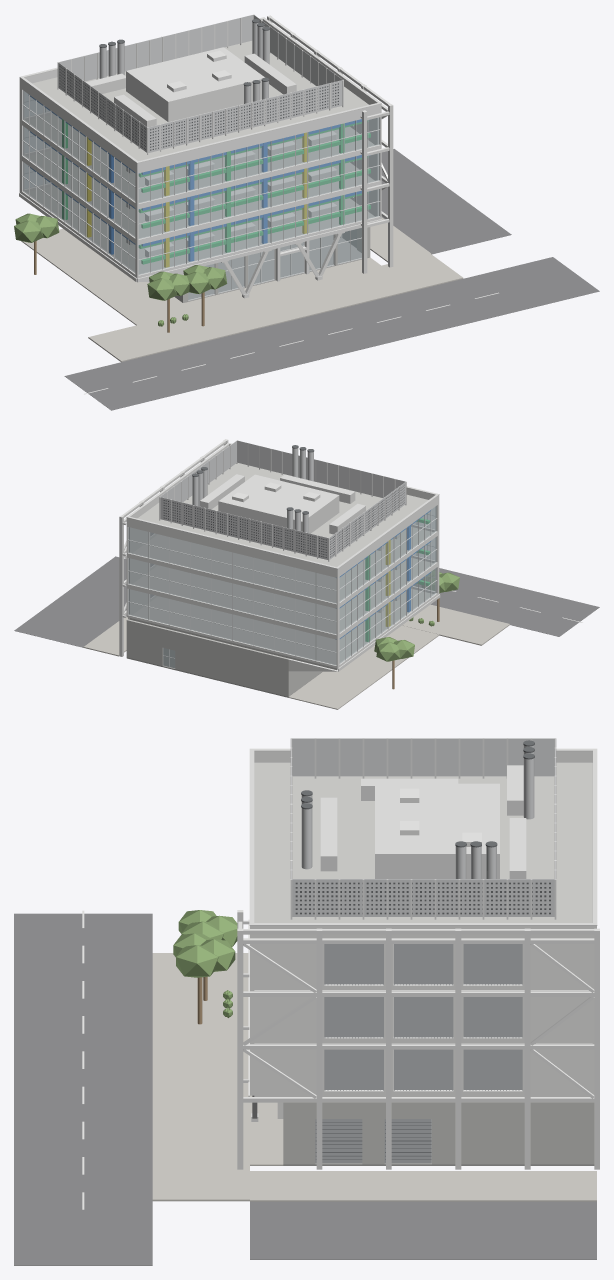
The model's file is clay-exoskeleton-research-lab-clay-v002.glb.
The picture shows the model from 3 angles, top to bottom: view 1: azimuth 30°, elevation 25°; view 2: azimuth 150°, elevation 25°; view 3: azimuth 270°, elevation 25°; orthographic projection. The views are drawn at different scales.
Parts seen in each view (by area): view 1: CLAY_GLASS, CLAY_ASPHALT, CLAY_SAND, CLAY_WHITE, CLAY_FLOOR, CLAY_PERF, CLAY_PALE, CLAY_TRIM, CLAY_STEEL, CLAY_GREEN, CLAY_MEMBRANE, CLAY_BLUE (+7 smaller); view 2: CLAY_GLASS, CLAY_FLOOR, CLAY_WHITE, CLAY_ASPHALT, CLAY_PERF, CLAY_PALE, CLAY_SAND, CLAY_CONCRETE, CLAY_MEMBRANE, CLAY_TRIM, CLAY_STEEL, CLAY_HARDWARE (+5 smaller); view 3: CLAY_ASPHALT, CLAY_SAND, CLAY_WHITE, CLAY_LOUVRE, CLAY_STEEL, CLAY_MEMBRANE, CLAY_PERF, CLAY_PALE, CLAY_CONCRETE, CLAY_HARDWARE, CLAY_PLANTING, CLAY_FLUE (+1 smaller).
Boxes of the visible parts, x1=… form: CLAY_GLASS: x1=23, y1=90, x2=379, y2=299; CLAY_ASPHALT: x1=64, y1=149, x2=599, y2=410; CLAY_SAND: x1=21, y1=217, x2=463, y2=362; CLAY_WHITE: x1=19, y1=19, x2=498, y2=394; CLAY_FLOOR: x1=27, y1=114, x2=374, y2=273; CLAY_PERF: x1=58, y1=15, x2=342, y2=152; CLAY_PALE: x1=19, y1=17, x2=381, y2=248; CLAY_TRIM: x1=22, y1=95, x2=380, y2=300; CLAY_STEEL: x1=57, y1=14, x2=393, y2=298; CLAY_GREEN: x1=62, y1=119, x2=370, y2=264; CLAY_MEMBRANE: x1=32, y1=41, x2=368, y2=160; CLAY_BLUE: x1=28, y1=95, x2=361, y2=261; CLAY_GLASS: x1=128, y1=506, x2=436, y2=668; CLAY_FLOOR: x1=130, y1=527, x2=433, y2=669; CLAY_WHITE: x1=126, y1=445, x2=582, y2=671; CLAY_ASPHALT: x1=14, y1=556, x2=599, y2=647; CLAY_PERF: x1=160, y1=440, x2=405, y2=559; CLAY_PALE: x1=126, y1=442, x2=439, y2=569; CLAY_SAND: x1=83, y1=604, x2=509, y2=709; CLAY_CONCRETE: x1=126, y1=619, x2=322, y2=696; CLAY_MEMBRANE: x1=137, y1=463, x2=428, y2=566; CLAY_TRIM: x1=128, y1=510, x2=437, y2=668; CLAY_STEEL: x1=119, y1=439, x2=406, y2=656; CLAY_HARDWARE: x1=163, y1=445, x2=404, y2=557; CLAY_ASPHALT: x1=14, y1=913, x2=596, y2=1265; CLAY_SAND: x1=152, y1=953, x2=596, y2=1201; CLAY_WHITE: x1=82, y1=751, x2=596, y2=1209; CLAY_LOUVRE: x1=315, y1=944, x2=522, y2=1163; CLAY_STEEL: x1=237, y1=738, x2=599, y2=1169; CLAY_MEMBRANE: x1=254, y1=762, x2=592, y2=922; CLAY_PERF: x1=291, y1=738, x2=555, y2=916; CLAY_PALE: x1=249, y1=748, x2=597, y2=925; CLAY_CONCRETE: x1=283, y1=1102, x2=594, y2=1164; CLAY_HARDWARE: x1=295, y1=740, x2=550, y2=1159; CLAY_PLANTING: x1=173, y1=910, x2=237, y2=1017; CLAY_FLUE: x1=301, y1=745, x2=534, y2=878.
Bounding box in the file's own units: 60.5 × 23.1 × 42.21.
